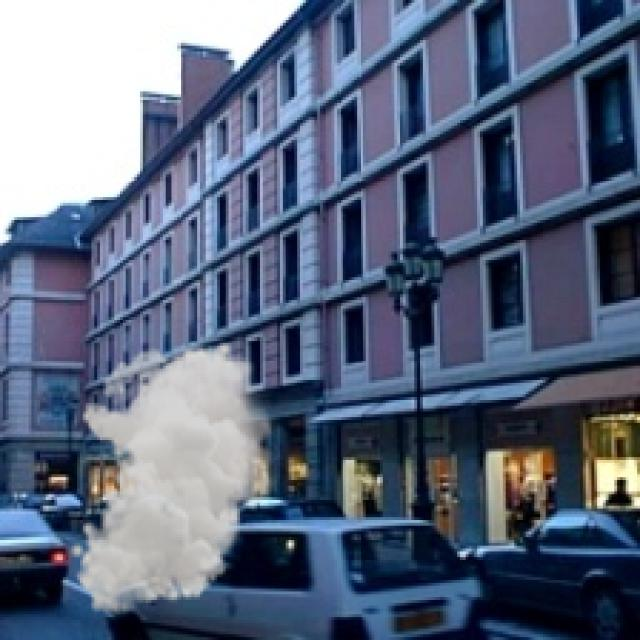smoke: (68, 340, 283, 614)
